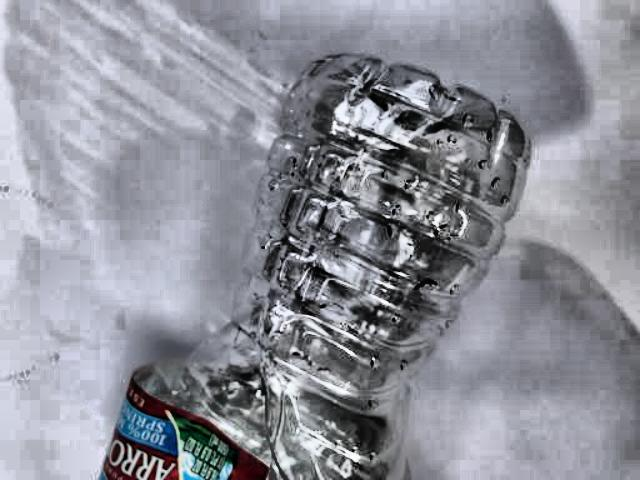Bottles: (35, 32, 637, 480)
